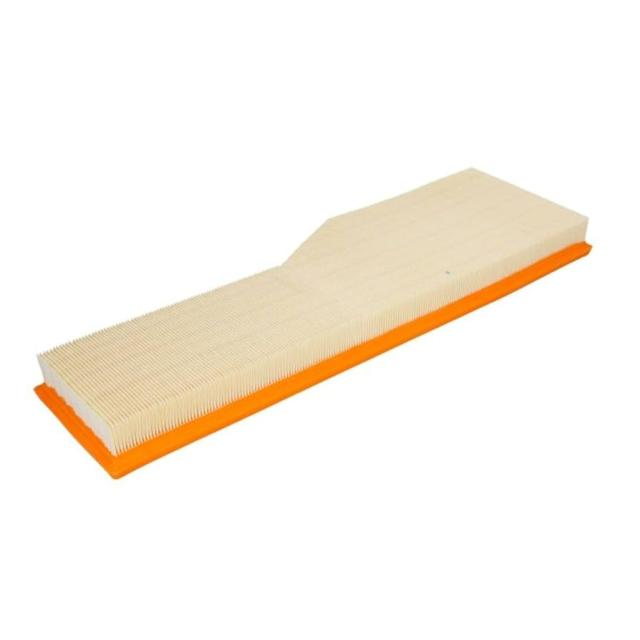air_filter: (2, 152, 600, 483)
